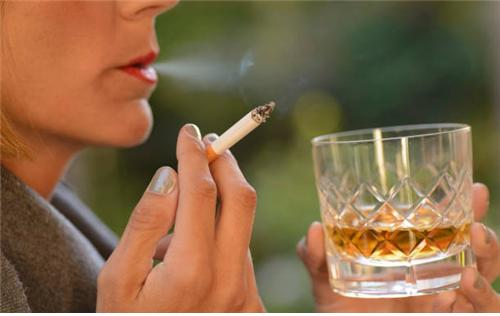alcohol: (310, 124, 472, 296)
cigarette: (200, 100, 276, 164)
